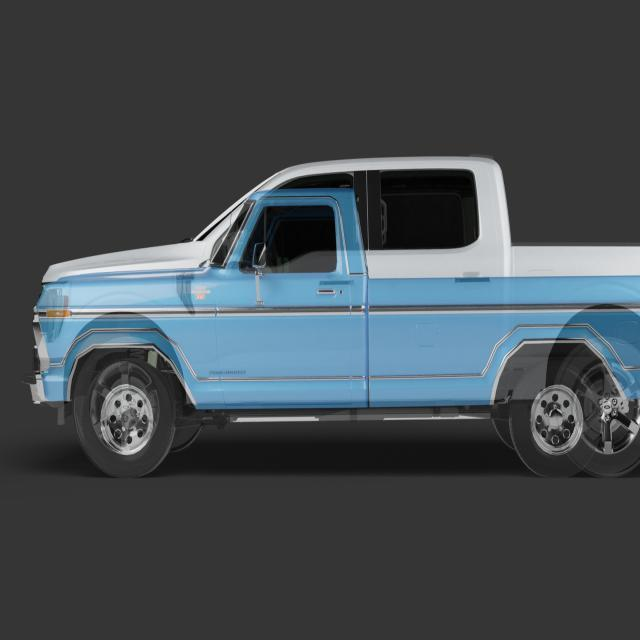person: (22, 154, 640, 480)
